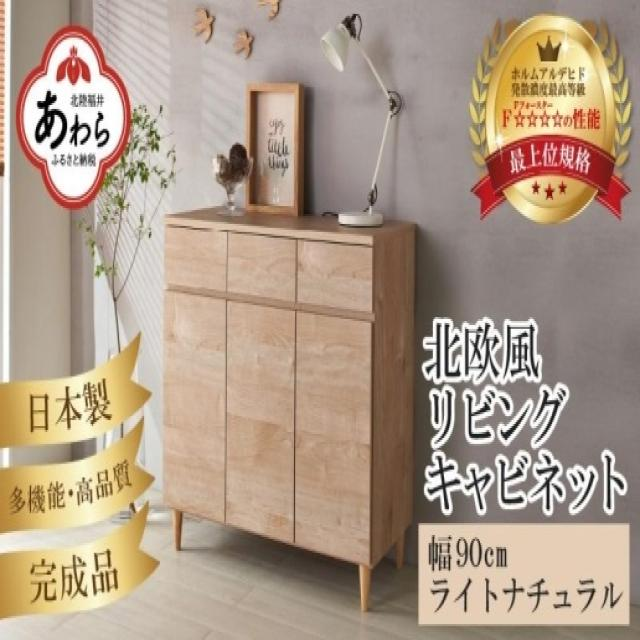natural shelf: (164, 197, 410, 612)
